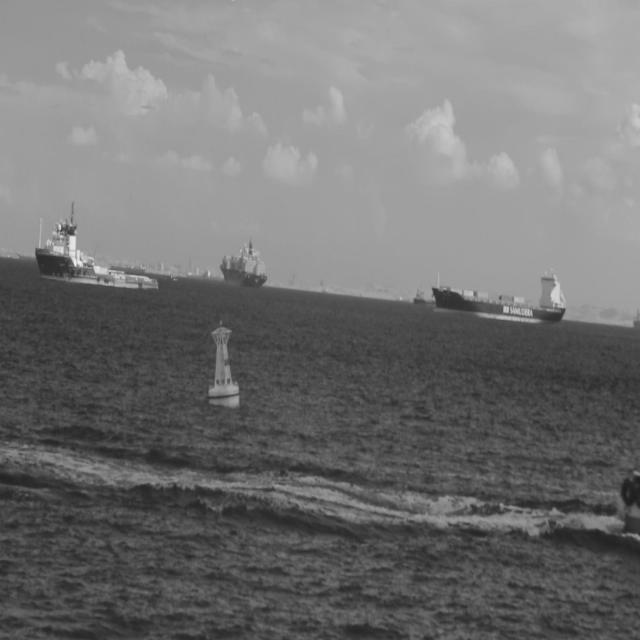buoy: (207, 319, 240, 411)
ship: (34, 198, 160, 292), (431, 257, 566, 325), (218, 235, 268, 289), (619, 472, 640, 540), (413, 280, 435, 304), (110, 261, 144, 274), (203, 264, 224, 281), (164, 272, 178, 280)
